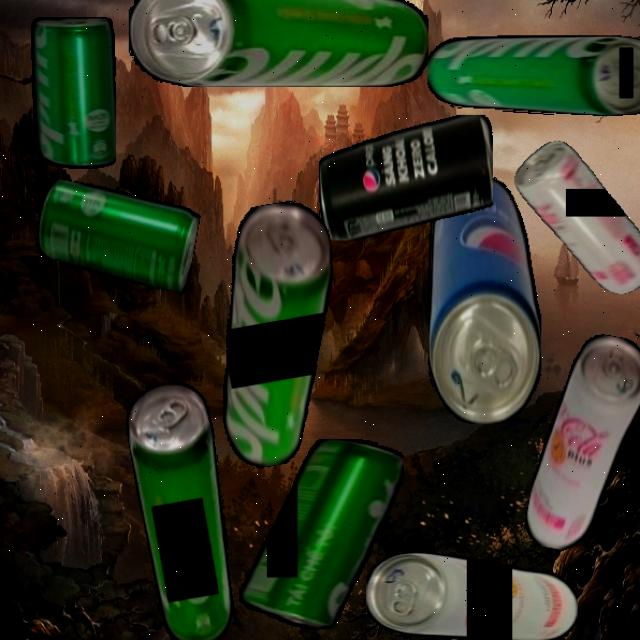debris: (189, 195, 366, 472), (120, 377, 249, 640), (238, 439, 404, 629), (428, 176, 542, 424), (522, 328, 640, 560), (129, 0, 428, 87), (318, 114, 493, 240), (31, 177, 202, 293), (513, 141, 640, 294), (366, 552, 578, 640), (426, 35, 640, 116), (30, 17, 116, 169)
